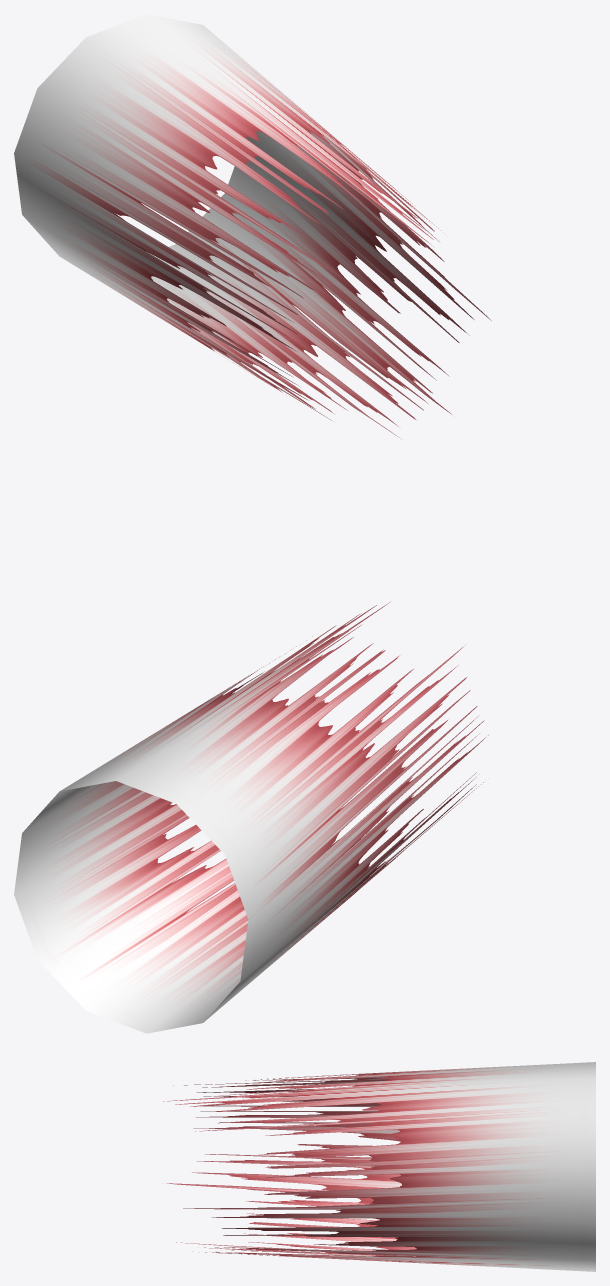
File: Effect4.obj
3 views of the same model, one above another, from view 1: azimuth 30°, elevation 25°; view 2: azimuth 150°, elevation 25°; view 3: azimuth 270°, elevation 25° (orthographic). The views are drawn at different scales.
Visible parts, largest first — view 1: Cylinder001; view 2: Cylinder001; view 3: Cylinder001.
Boxes of the visible parts, <box> form: Cylinder001: <box>14,14,491,438</box>; Cylinder001: <box>14,602,488,1033</box>; Cylinder001: <box>163,1062,595,1271</box>.
Bounding box in the file's own units: 32.22 × 32.22 × 90.01.
1 material, 1 textured.
